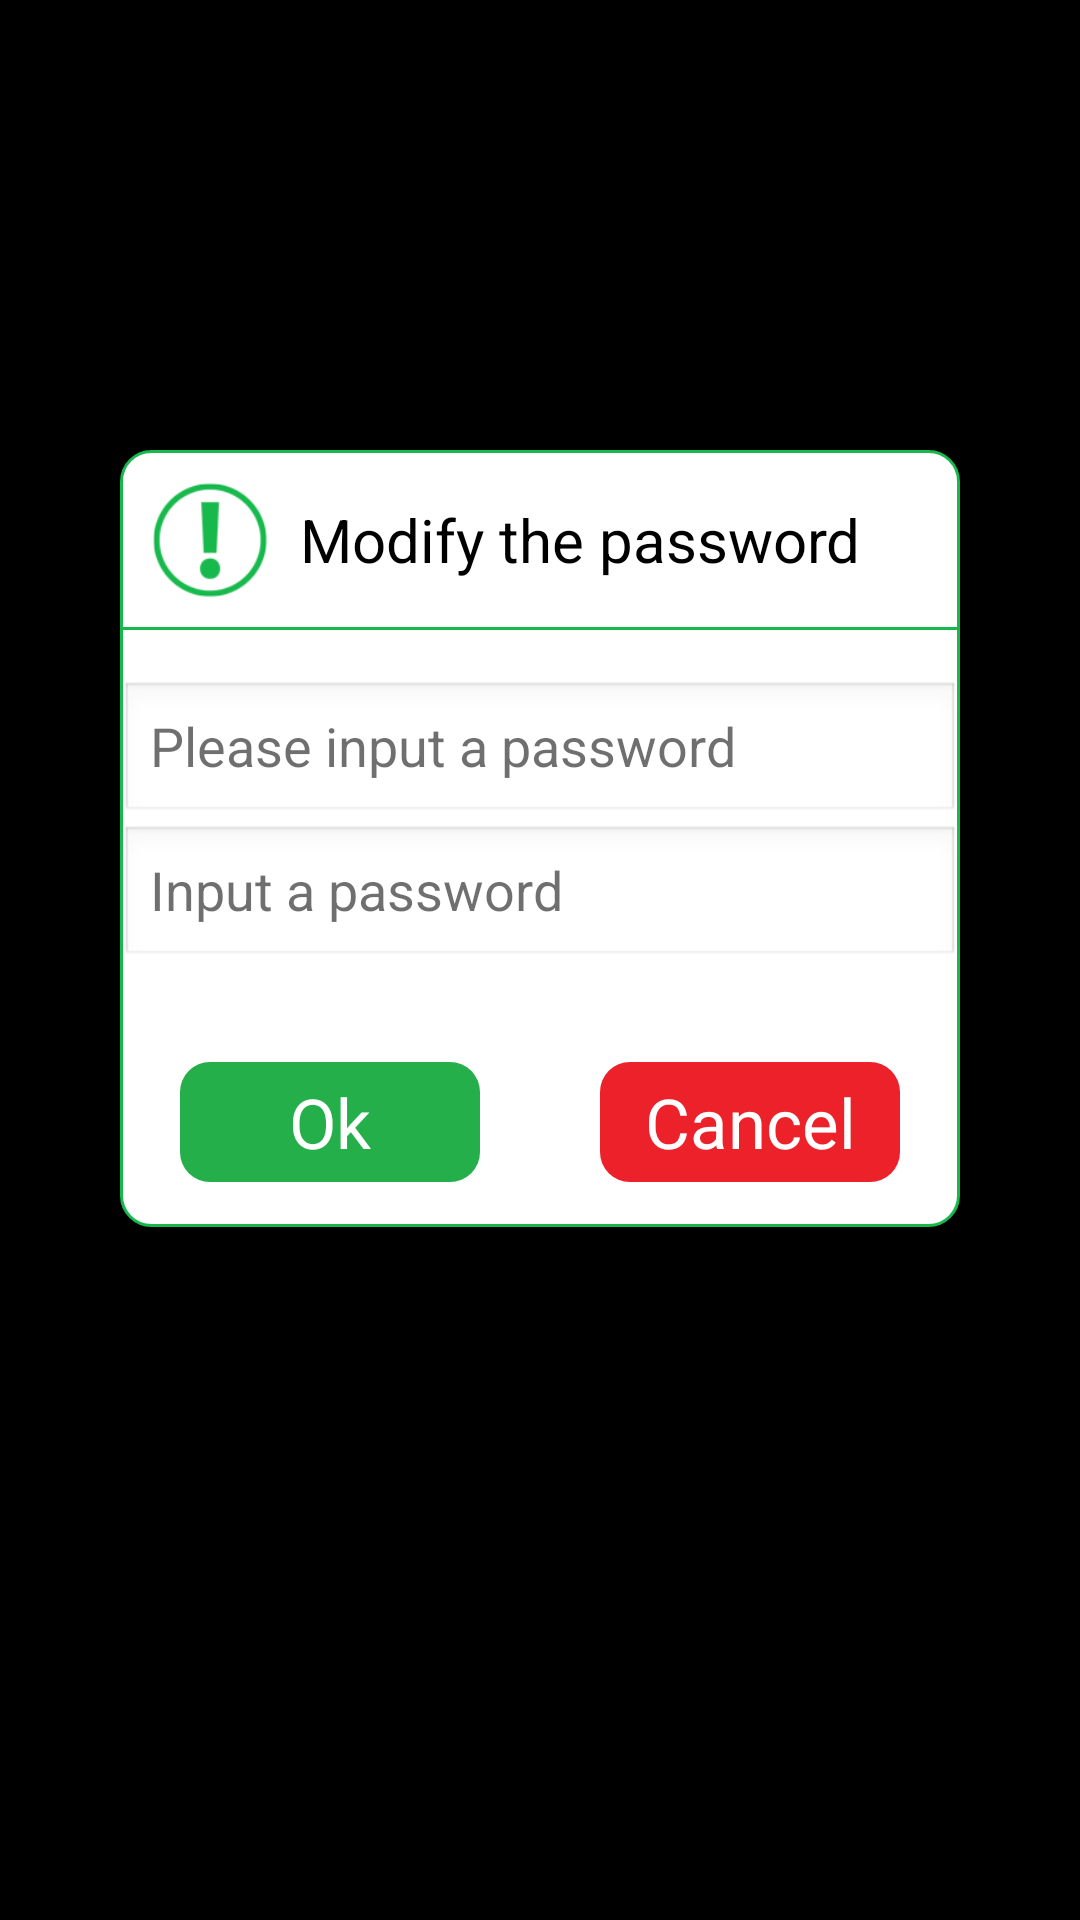

Where to tap for icons on this 1080*1920 app screen, as [x,y]:
gantanhao: [210,540]
